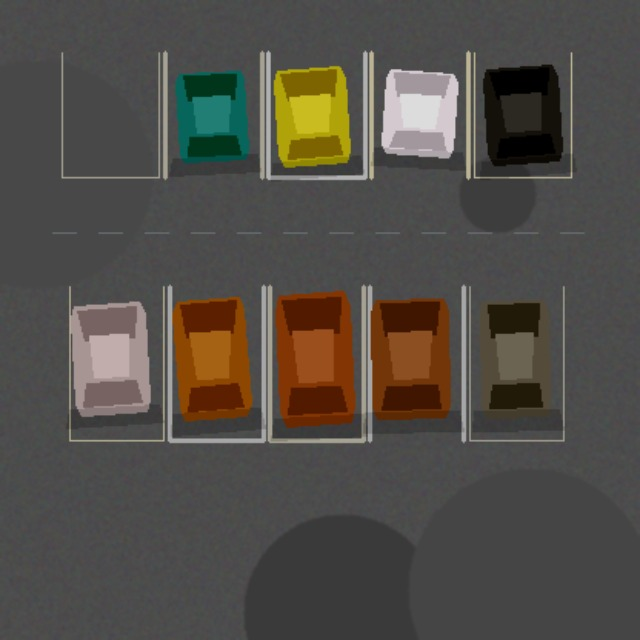space-empty: (62, 52, 158, 177)
space-occupied: (69, 286, 163, 440), (169, 286, 263, 440), (269, 286, 363, 440), (369, 286, 463, 440), (469, 286, 563, 440), (165, 52, 262, 177), (268, 52, 365, 177), (371, 52, 468, 177), (474, 52, 571, 177)
